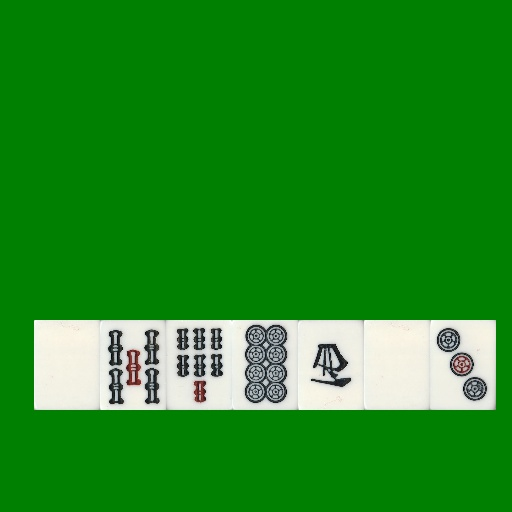3p: (430, 320, 496, 410)
5s: (100, 320, 166, 410)
7s: (166, 320, 232, 410)
8p: (232, 320, 298, 410)
west: (298, 320, 364, 410)
white: (34, 320, 100, 410), (364, 320, 430, 410)
